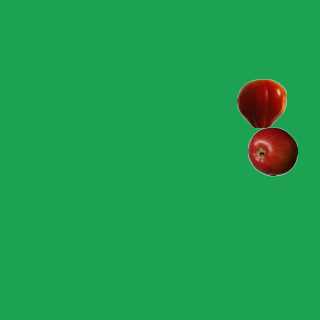Apple Braeburn: (247, 126, 297, 176)
Tomato 1: (236, 78, 286, 128)
